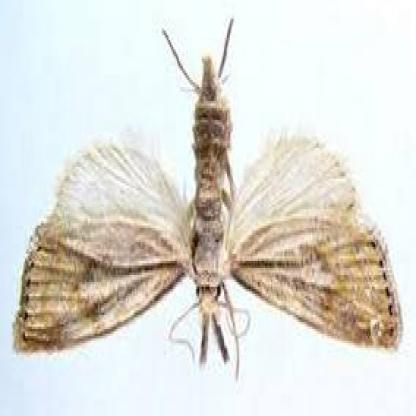stem-borer: (10, 14, 404, 388)
